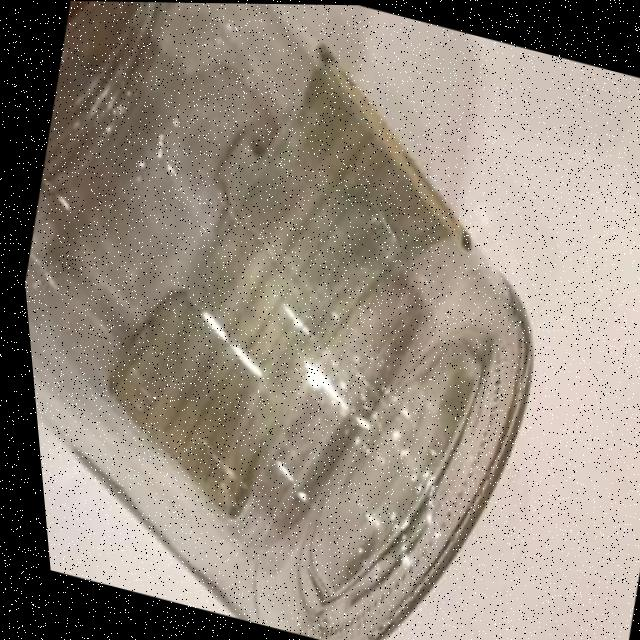glass: (0, 0, 629, 640)
